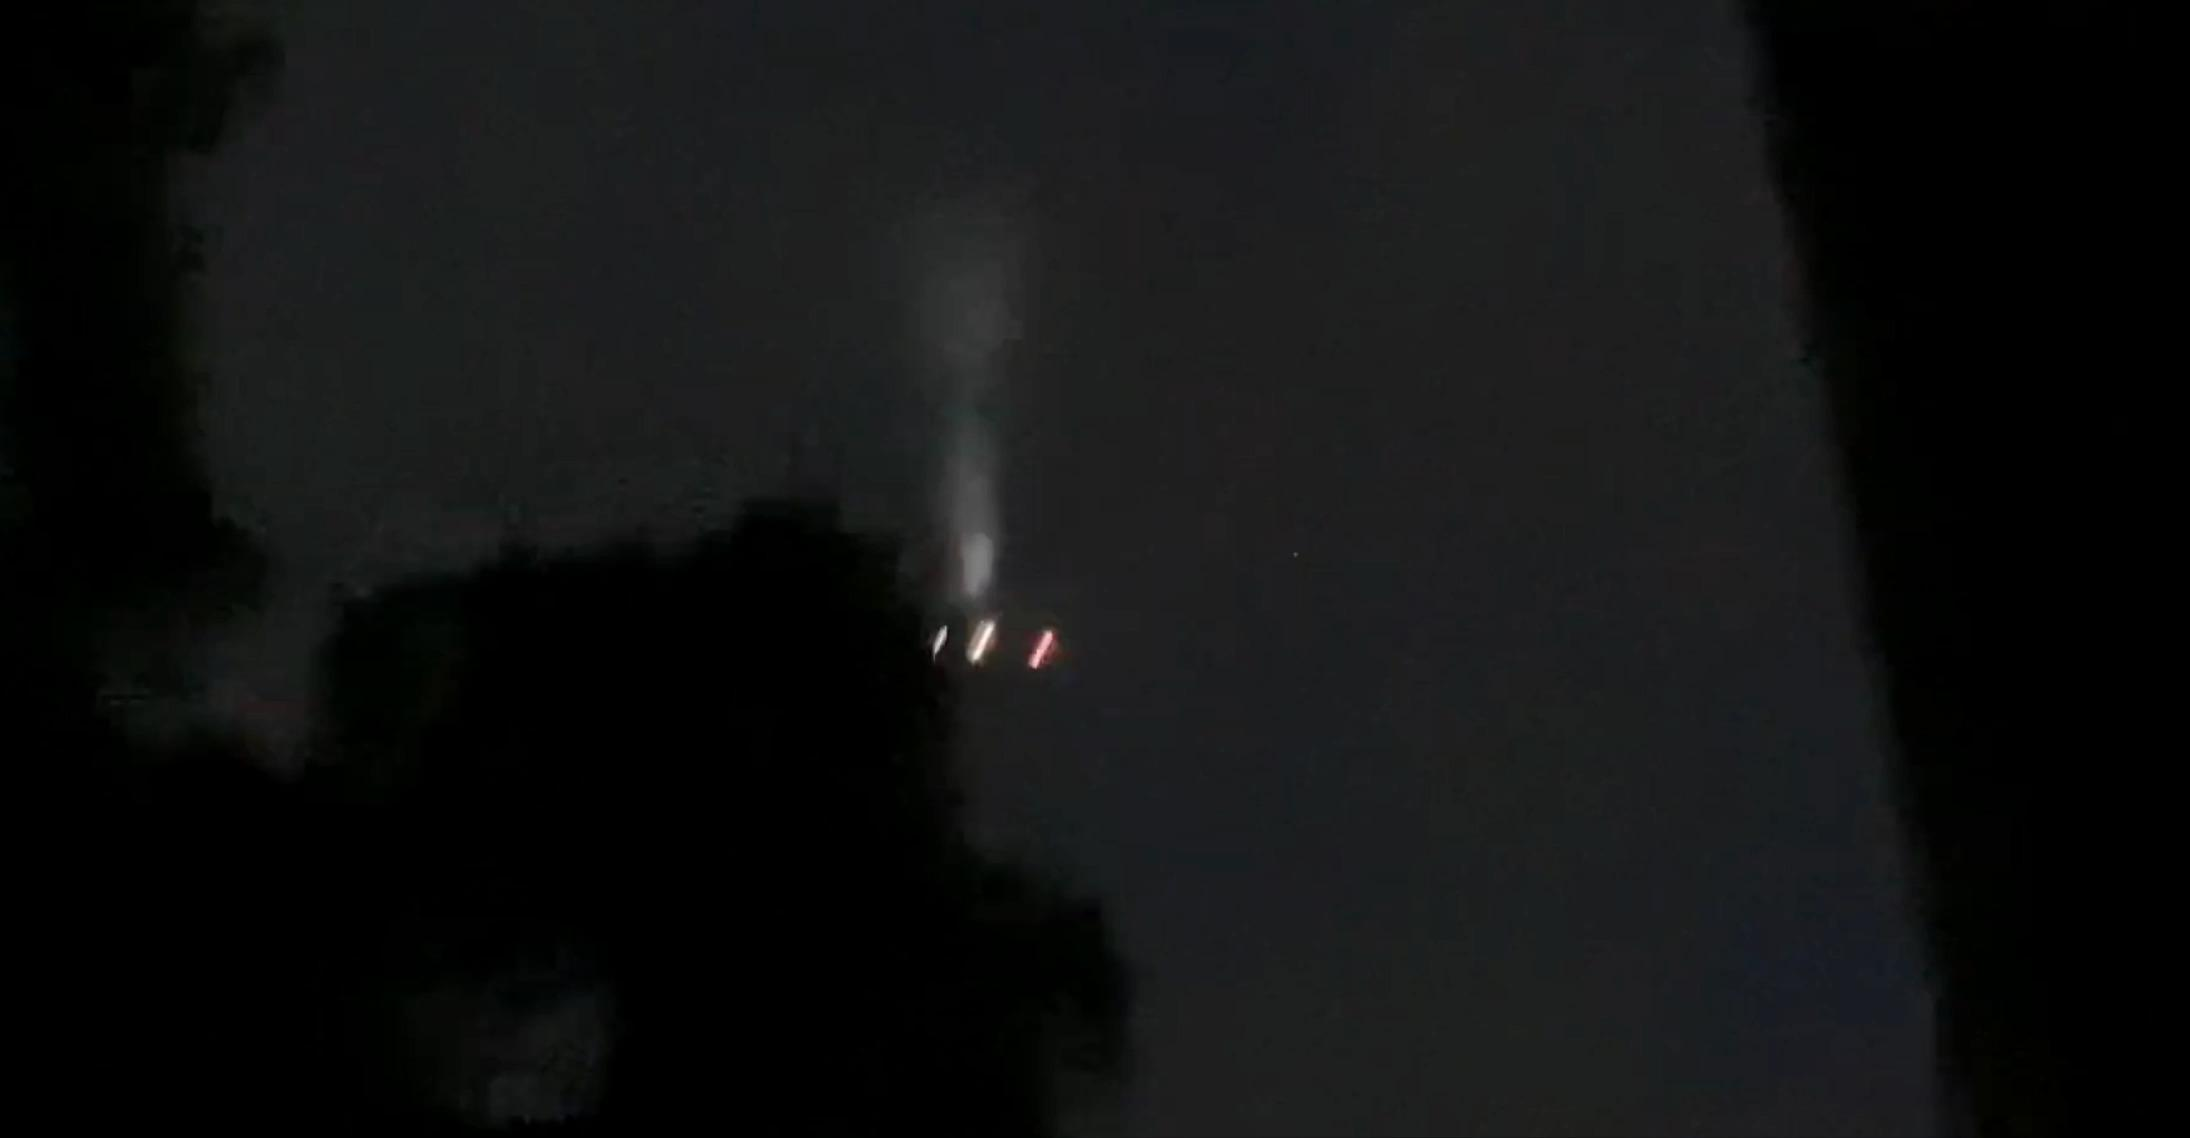Plane: (902, 585, 1091, 692)
